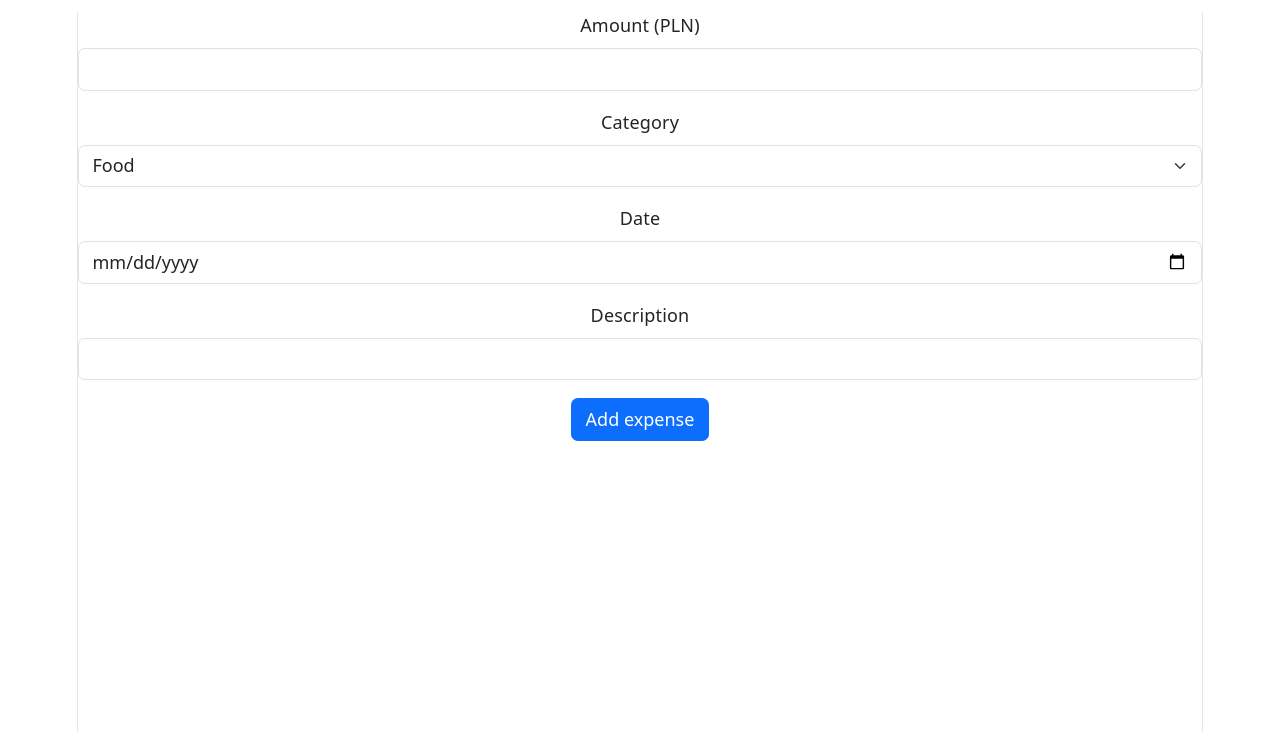
Test: ExpenseForm › shows error when description is empty
Type "50" into the number field at (640, 69), box x1=78 y1=48 x2=1202 y2=90
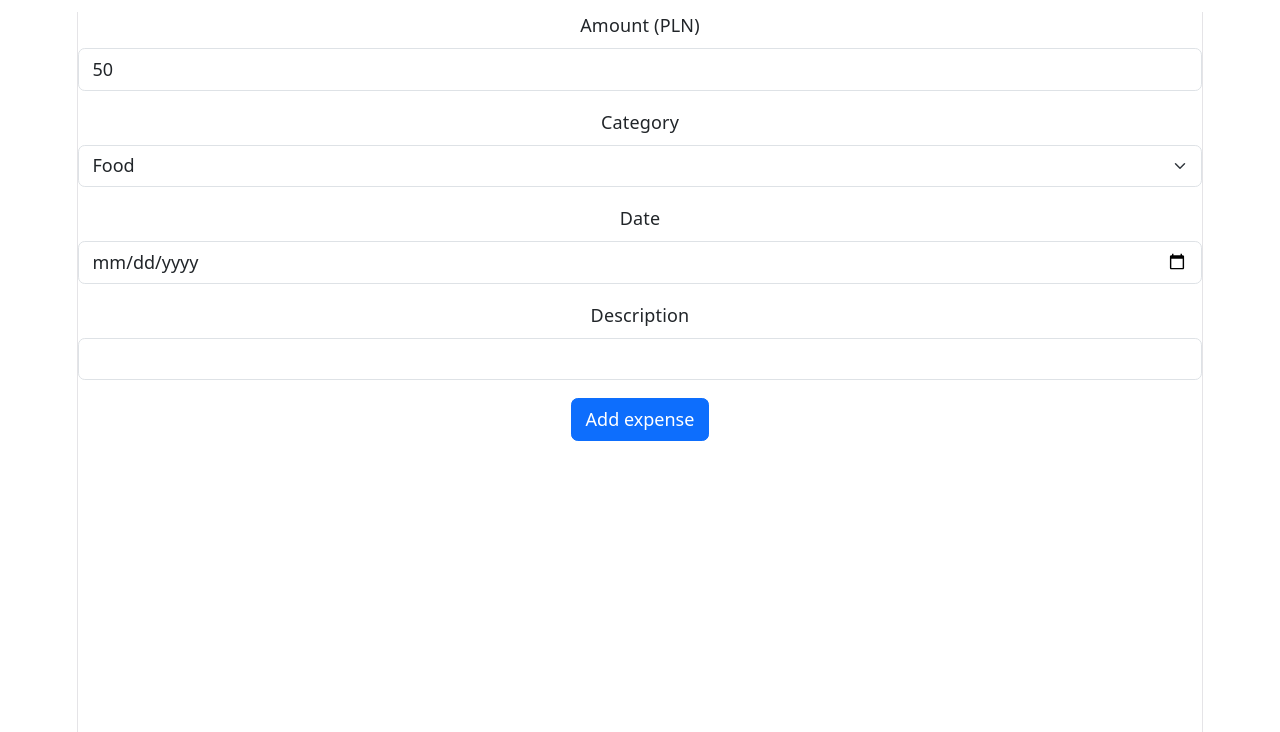
Type "2025-01-01" into the date field at (640, 262), box x1=78 y1=241 x2=1202 y2=284
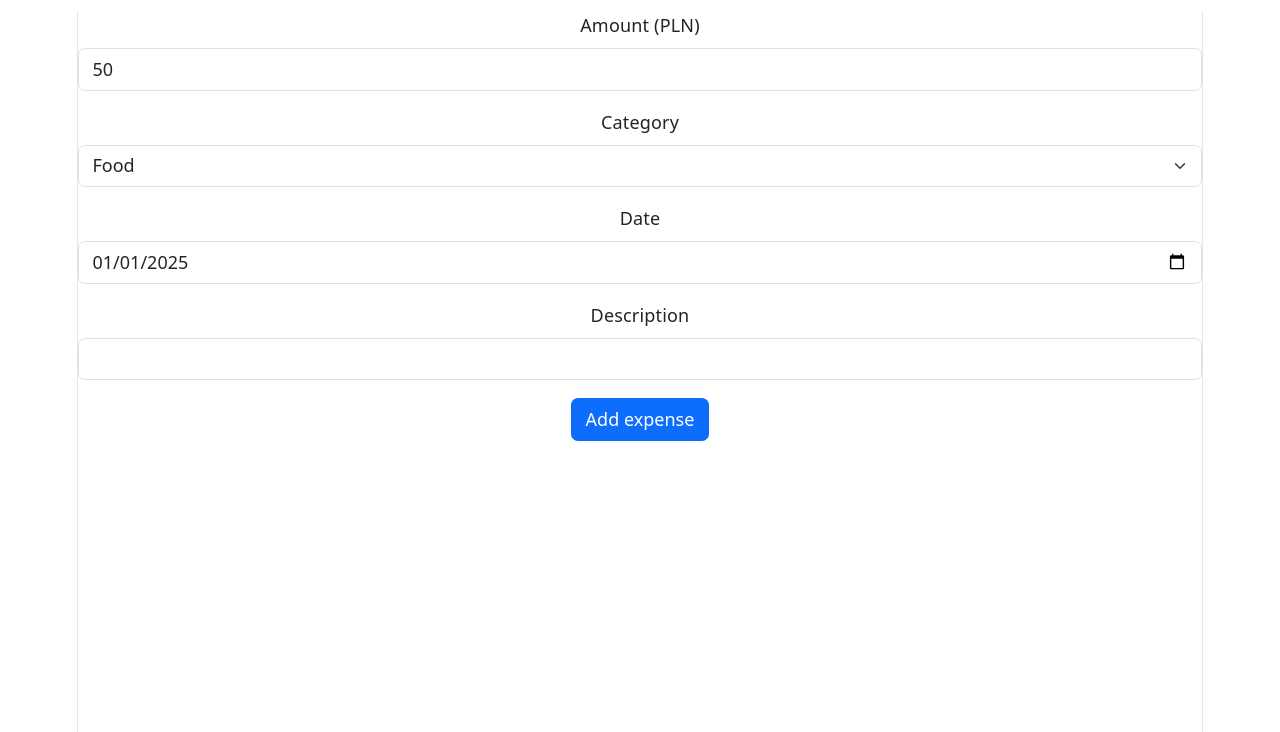
Click the button "Add expense" at (640, 419), box x1=571 y1=398 x2=709 y2=440
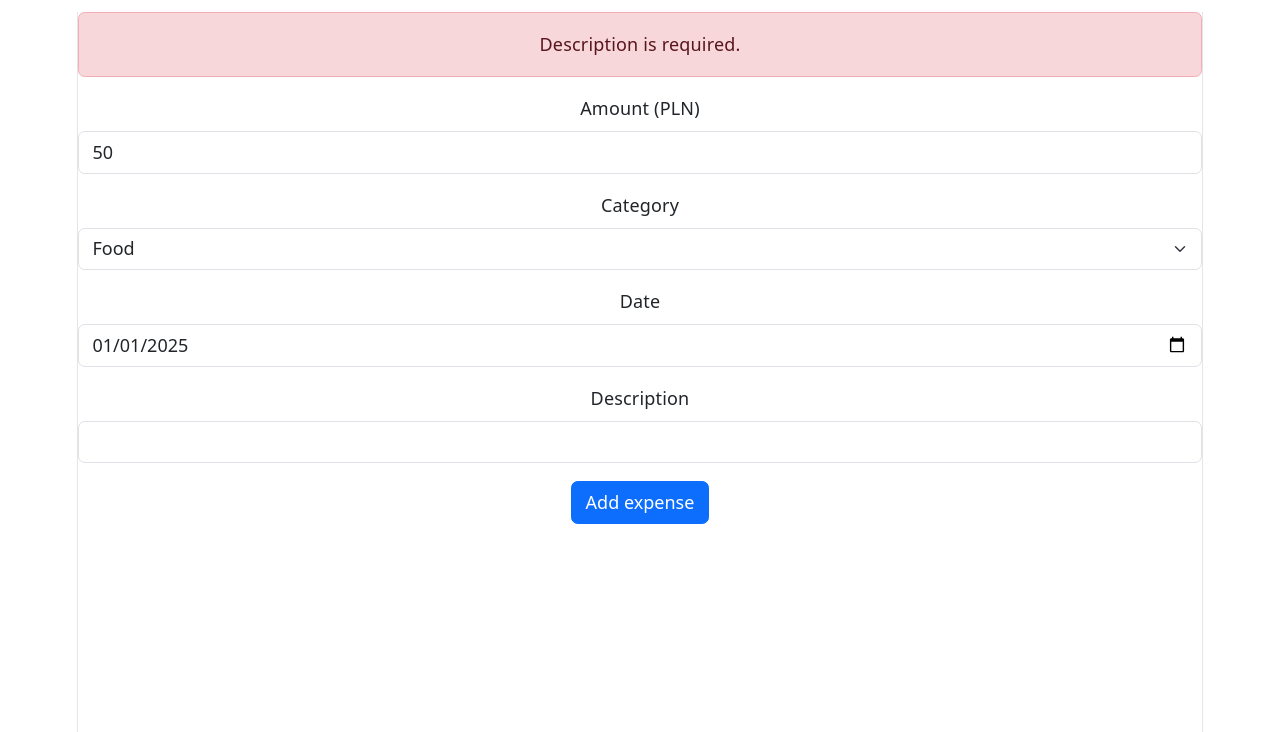
Now the text "Description is required." is shown, box x1=78 y1=12 x2=1202 y2=77
